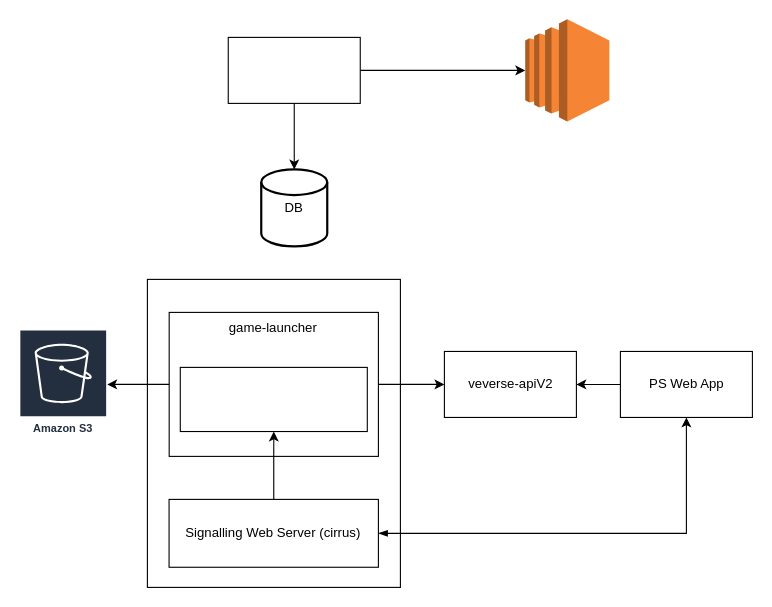
Image size: 772x607. Some labels were removed from this diagram. The box of each missing label's shape, as (x1, y1, x2, y2) in pixels:
http-server: (179, 366, 367, 432)
PS Instance: (146, 278, 400, 587)
service-operator: (227, 36, 360, 103)
